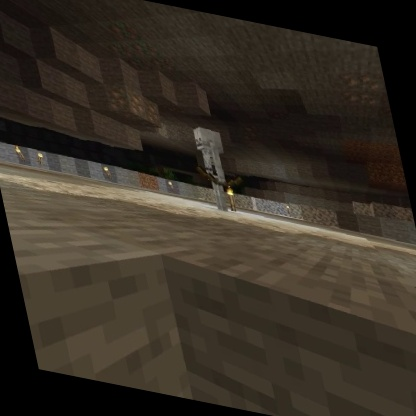skeleton: (182, 121, 255, 220)
